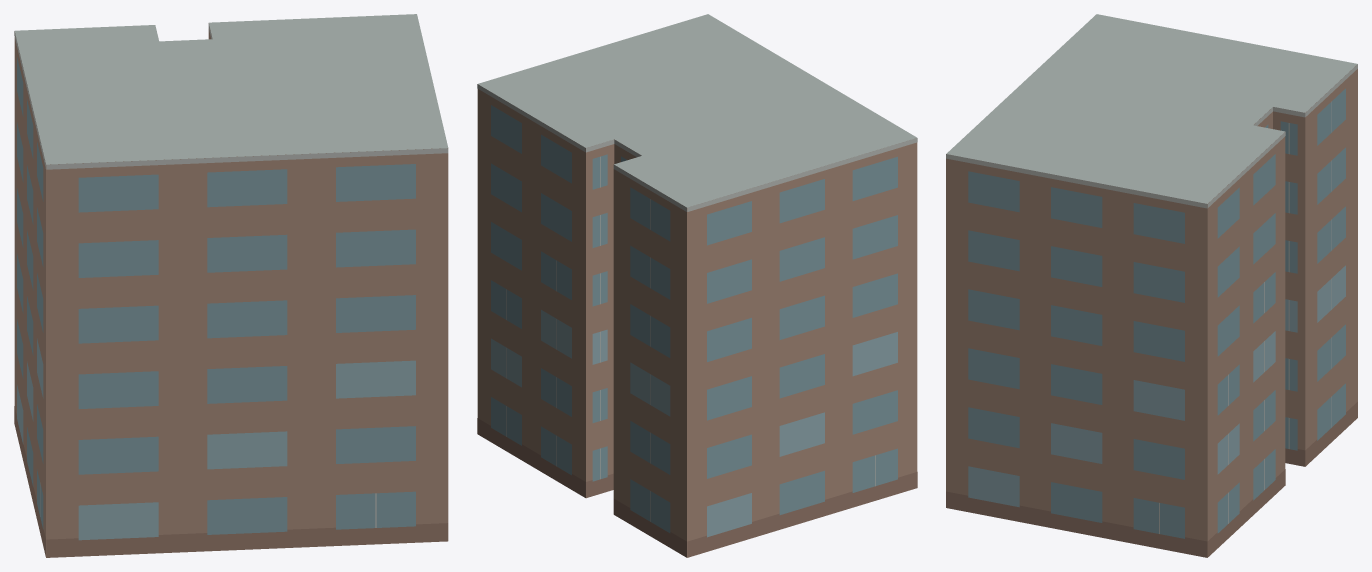
Rendered from survey-upis-32952620.glb.
3 renders of one model, left to right at view 1: azimuth 30°, elevation 25°; view 2: azimuth 150°, elevation 25°; view 3: azimuth 270°, elevation 25°, orthographic. The views are drawn at different scales.
Parts seen in each view (by area): view 1: survey-upis-32952620.tmp; view 2: survey-upis-32952620.tmp; view 3: survey-upis-32952620.tmp.
Part boxes in pixels (x1=…): survey-upis-32952620.tmp: x1=14, y1=14, x2=448, y2=557; survey-upis-32952620.tmp: x1=477, y1=14, x2=917, y2=557; survey-upis-32952620.tmp: x1=946, y1=14, x2=1357, y2=557.
Bounding box in the file's own units: 21.53 × 18.7 × 19.72.
